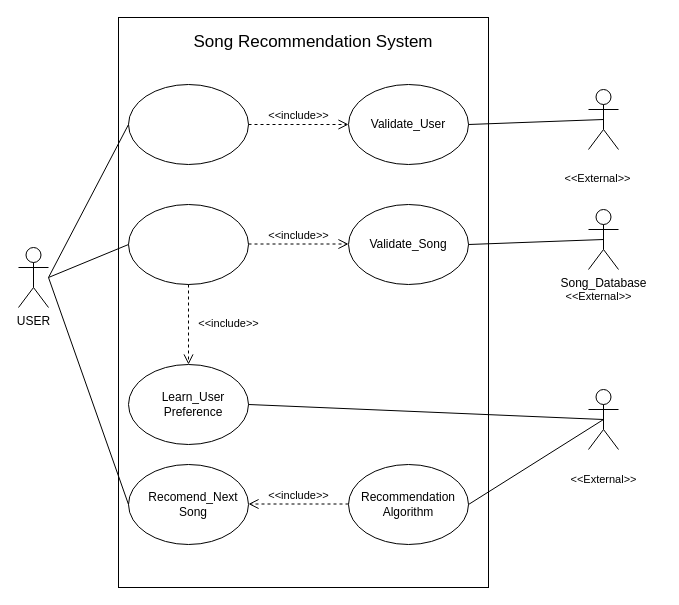
This 679x605 diagram has some shape labels left out. The shapes that lost their labels are listed below. From the top down, each one's centre as x and y in pixels, then its label:
(x=188, y=124): Register_User
(x=603, y=119): User_Database
(x=188, y=244): Search_Song
(x=603, y=419): Preference_Database
